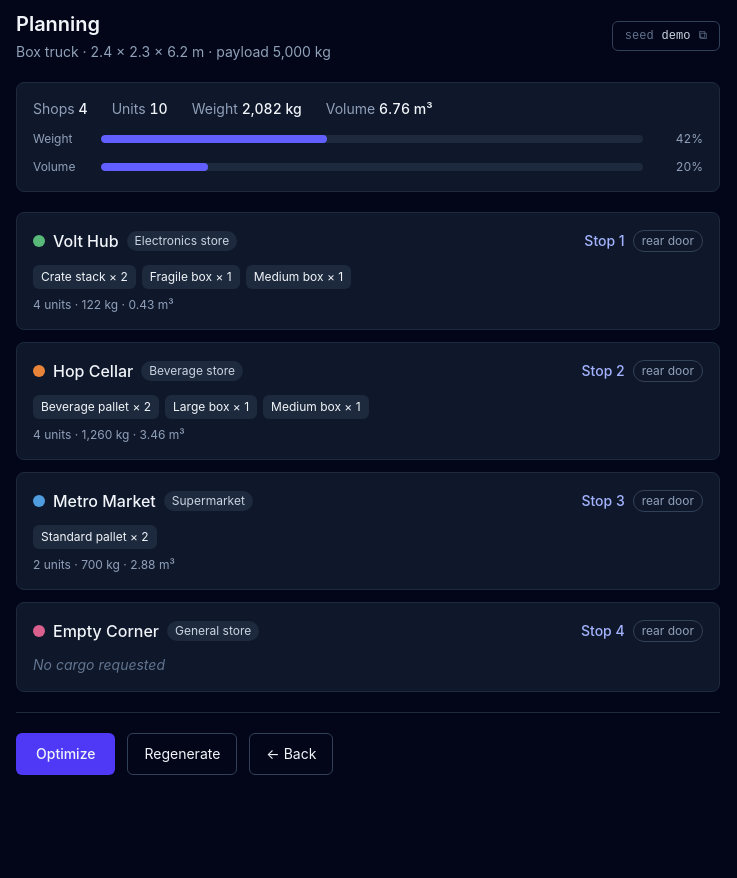
Test: ScreenPlanning › optimize flow (fake timers) › cancel stops the run and stays on planning
What coordinates should you click on to do the following:
click the button "Optimize"
I would click on:
 (66, 754)
Its box is left=16, top=733, right=116, bottom=775.
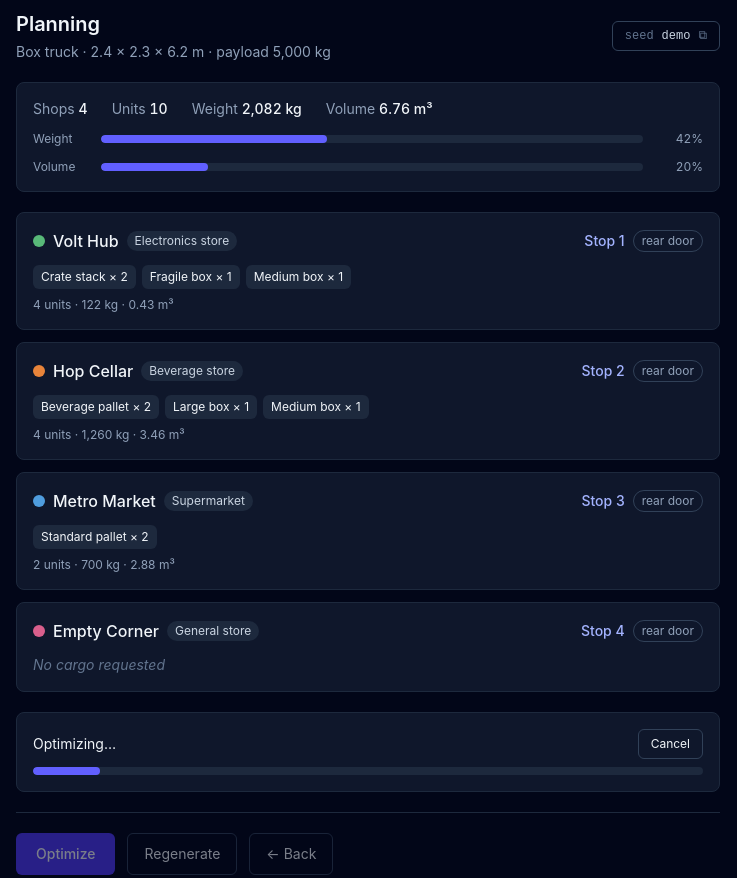
What coordinates should you click on to do the following:
click the button "Cancel"
I would click on:
 (670, 744)
Its box is left=638, top=729, right=703, bottom=759.
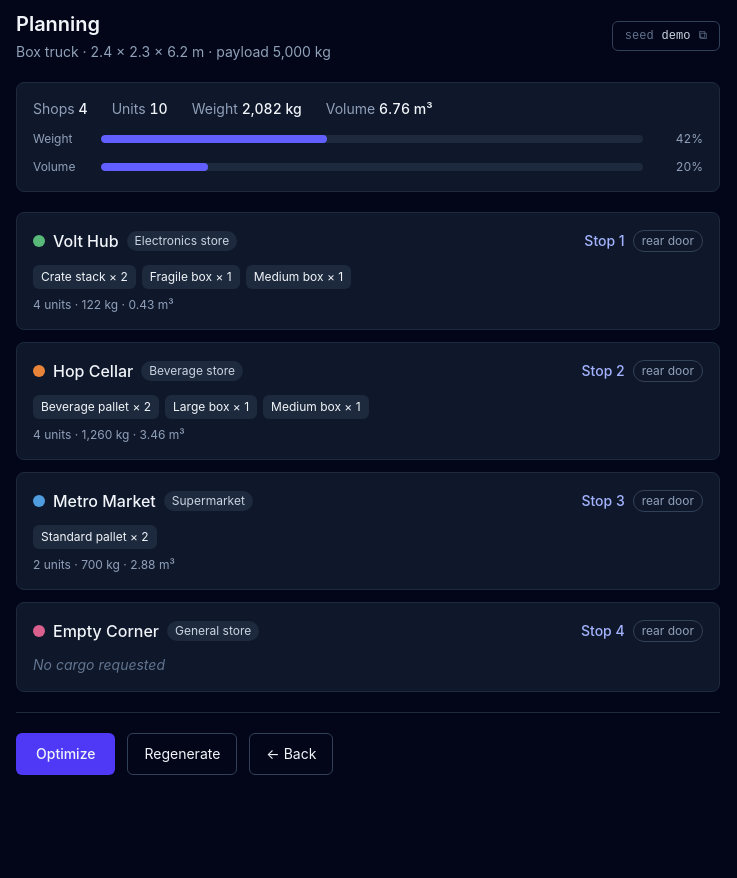
Check: the button "Optimize" is enabled, box left=16, top=733, right=116, bottom=775
